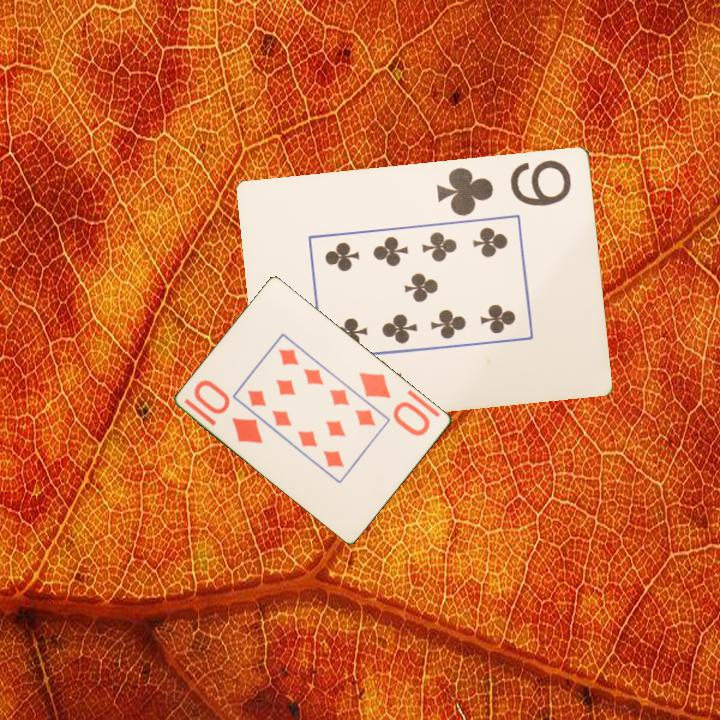10d: (356, 368, 434, 439), (190, 376, 266, 447)
9c: (433, 156, 575, 219)
